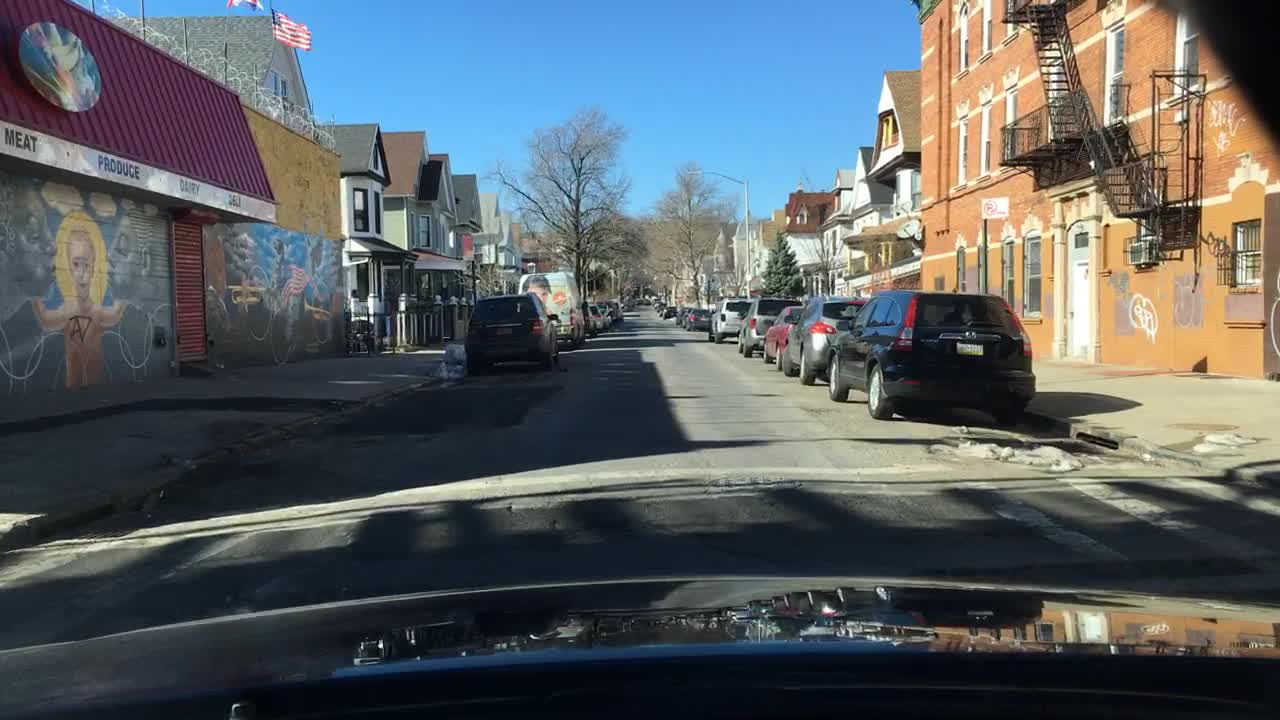car: (825, 287, 1040, 426), (464, 291, 561, 376), (780, 294, 872, 383), (516, 268, 588, 347), (738, 296, 805, 359), (762, 304, 805, 363), (705, 294, 752, 345), (582, 300, 605, 337), (683, 307, 713, 331), (594, 300, 614, 328), (605, 299, 620, 328), (676, 304, 693, 323), (656, 299, 673, 311), (614, 300, 624, 319), (663, 305, 680, 316), (648, 293, 659, 307), (634, 297, 647, 304)
traffic sign: (981, 197, 1012, 218)
